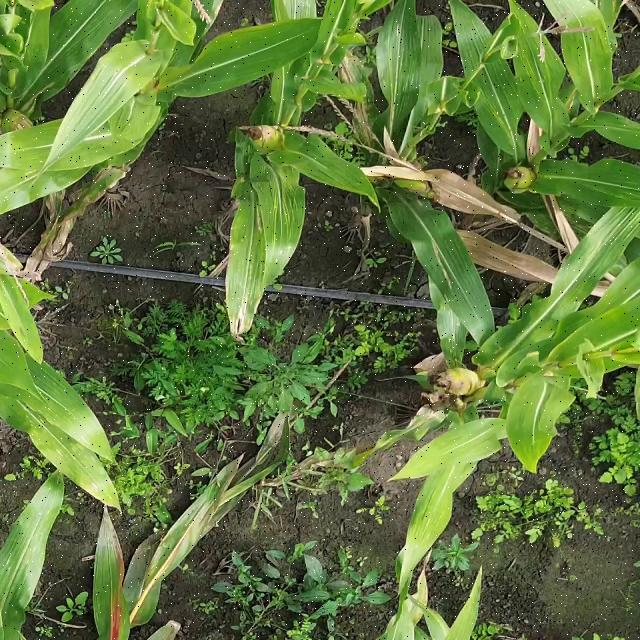gray-leaf-spot: (222, 171, 309, 331), (378, 12, 442, 136)
northern-leaf-blight: (78, 526, 174, 640)
southern-leaf-blight: (29, 368, 139, 510), (424, 248, 493, 378)
